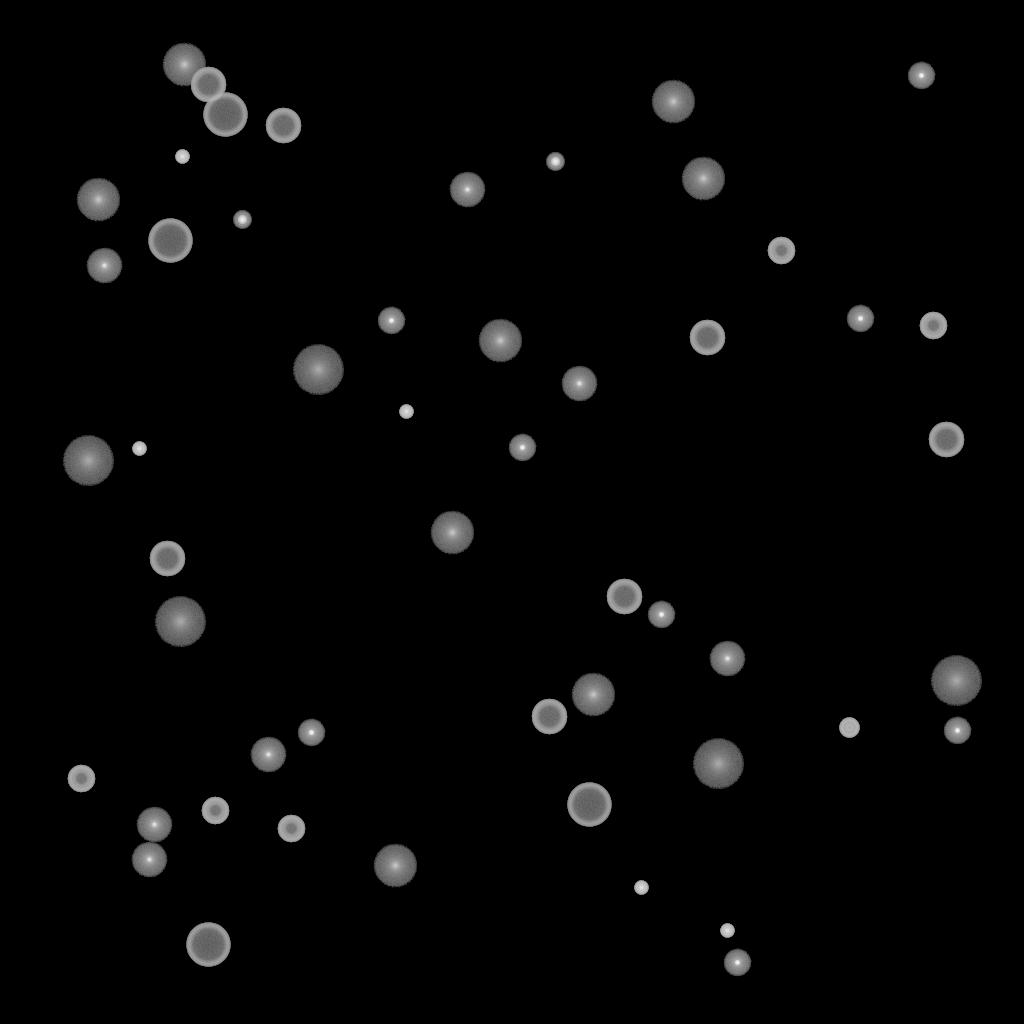depth:-10: (377, 307, 405, 335), (907, 62, 935, 90), (723, 949, 751, 977), (647, 601, 675, 629), (508, 434, 536, 462), (943, 717, 971, 745), (846, 305, 874, 333), (297, 719, 325, 747)
depth:-20: (233, 211, 251, 229), (546, 153, 564, 171)
depth:-30: (175, 150, 189, 164), (399, 405, 413, 419), (132, 442, 146, 456), (634, 881, 648, 895), (720, 924, 734, 938)
depth:-40: (839, 718, 859, 738)
depth:-50: (767, 237, 795, 265), (67, 765, 95, 793), (919, 312, 947, 340), (201, 797, 229, 825), (277, 815, 305, 843)
depth:-60: (149, 541, 185, 577), (265, 108, 301, 144), (928, 422, 964, 458), (606, 579, 642, 615), (190, 67, 226, 103), (531, 699, 567, 735), (689, 320, 725, 356)
depth:-70: (148, 219, 192, 263), (186, 923, 230, 967), (567, 783, 611, 827), (203, 93, 247, 137)
depth:0: (250, 737, 286, 773), (86, 248, 122, 284), (131, 842, 167, 878), (136, 807, 172, 843), (449, 172, 485, 208), (561, 366, 597, 402), (709, 641, 745, 677)
depth:10: (373, 844, 417, 888), (571, 673, 615, 717), (681, 157, 725, 201), (430, 511, 474, 555), (478, 319, 522, 363), (162, 43, 206, 87), (76, 178, 120, 222), (651, 80, 695, 124)
depth:20: (930, 656, 982, 706), (62, 436, 114, 486), (692, 739, 744, 789), (154, 597, 206, 647), (292, 345, 344, 395)
